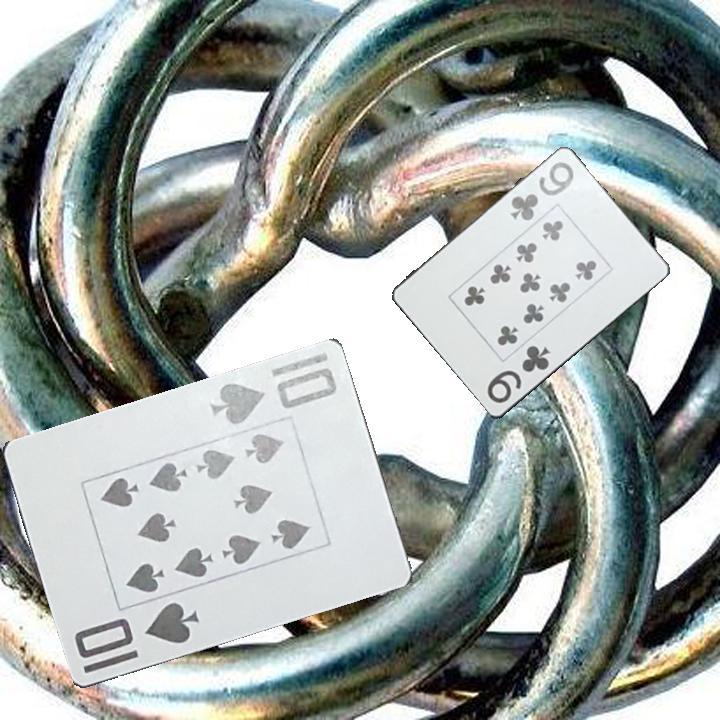9c: (483, 342, 553, 407), (507, 159, 577, 224)
Ts: (71, 597, 203, 676), (207, 363, 341, 427)
